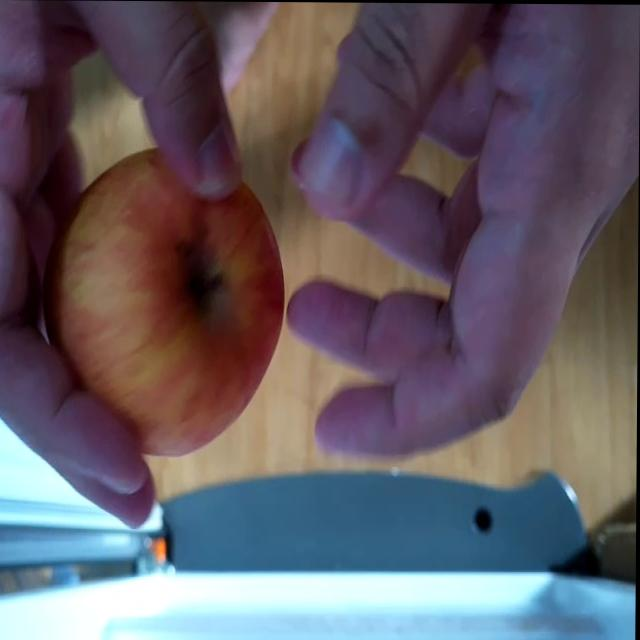apple: (40, 154, 288, 460)
